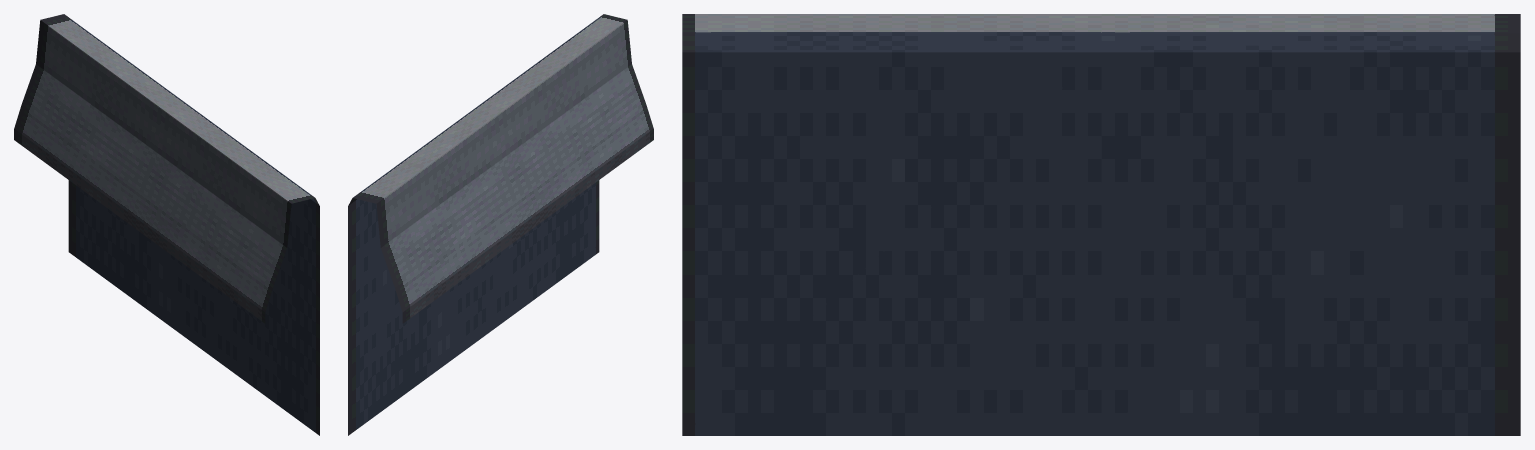
File: wangan_parapet.glb
3 renders of one model, left to right at view 1: azimuth 30°, elevation 25°; view 2: azimuth 150°, elevation 25°; view 3: azimuth 270°, elevation 25°, orthographic. The views are drawn at different scales.
Parts seen in each view (by area): view 1: wangan_parapet; view 2: wangan_parapet; view 3: wangan_parapet.
Part boxes in pixels (<box>): wangan_parapet: <box>14,14,319,435</box>; wangan_parapet: <box>348,14,653,435</box>; wangan_parapet: <box>682,14,1520,435</box>.
Size of the model in its own units: 0.5 by 2.1 by 4.
Materials: 1 (1 with a texture image).
